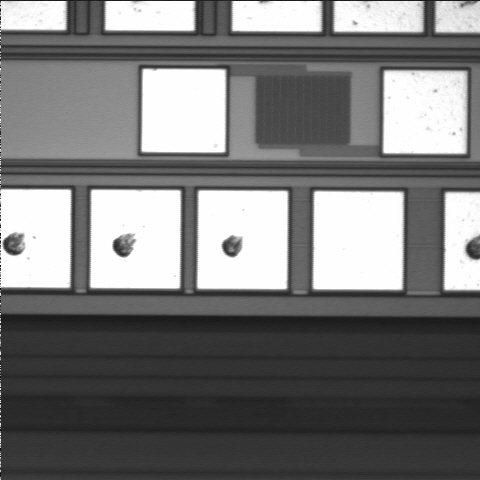pad: (90, 190, 181, 289), (197, 191, 288, 289), (313, 191, 403, 290), (142, 69, 226, 152), (383, 71, 466, 154)
